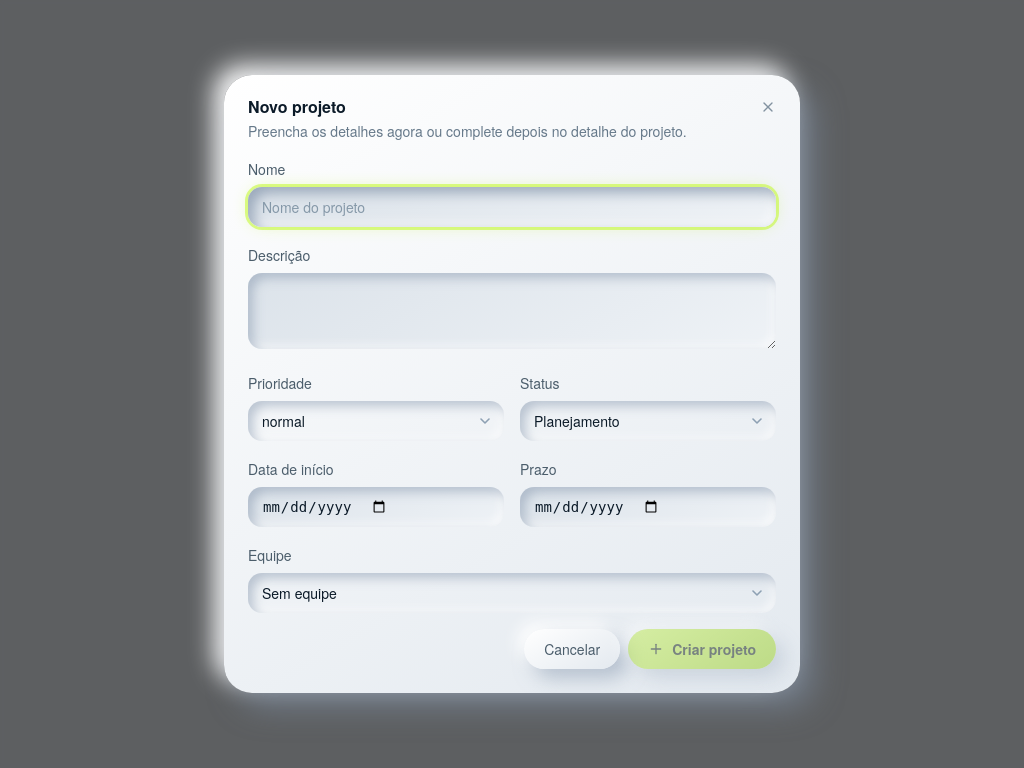
CreateProjectDialog › shows a toast and keeps the dialog open when creation fails
This screenshot has width=1024, height=768.
Type "Projeto X" into the field labelled "Nome" at (512, 207), box top-left (248, 187), bottom-right (776, 227)
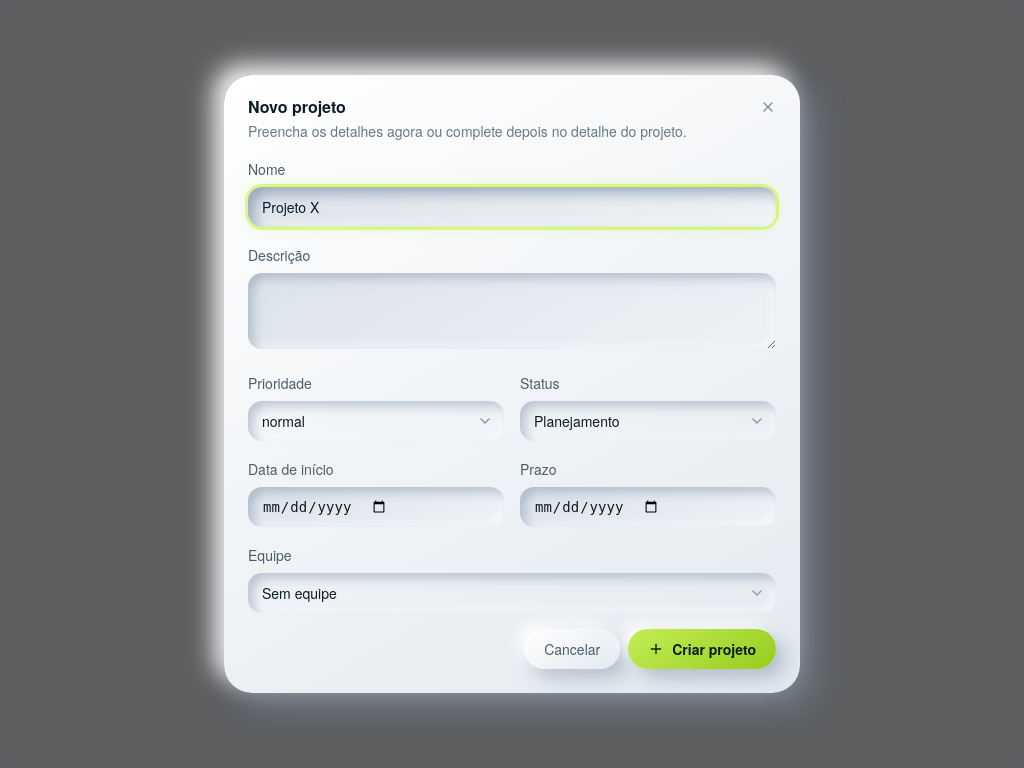
Click the button "Criar projeto" at (702, 649), box top-left (628, 629), bottom-right (776, 669)
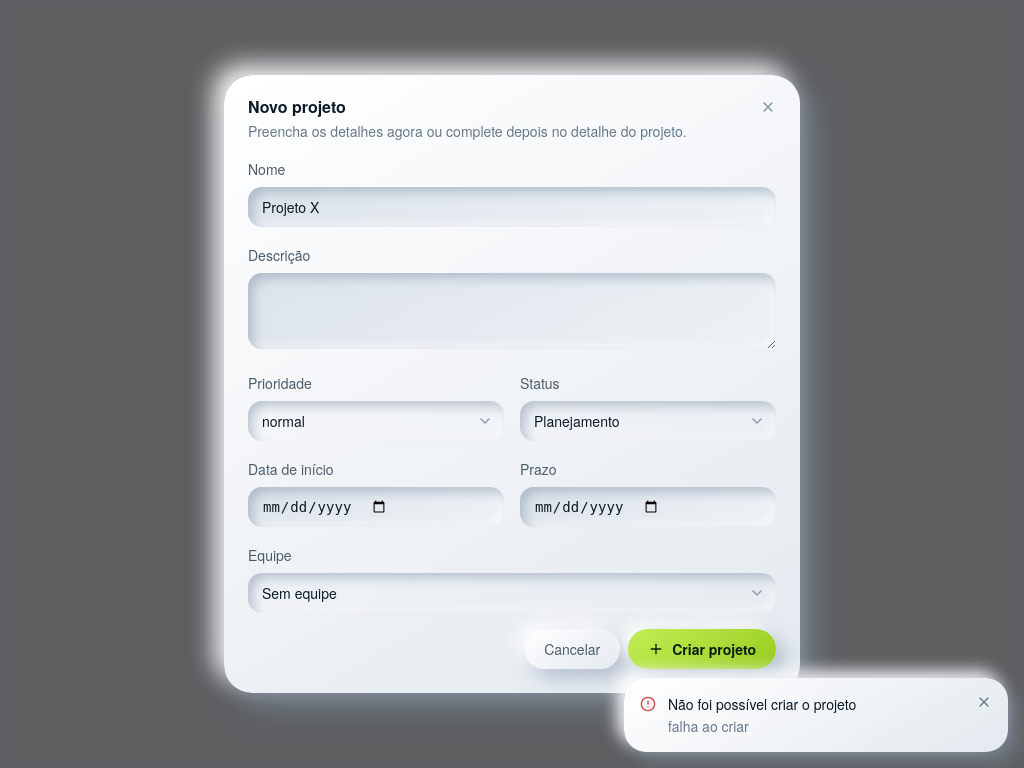
Check: the text "Não foi possível criar o projeto" is shown, box top-left (668, 694), bottom-right (856, 714)
